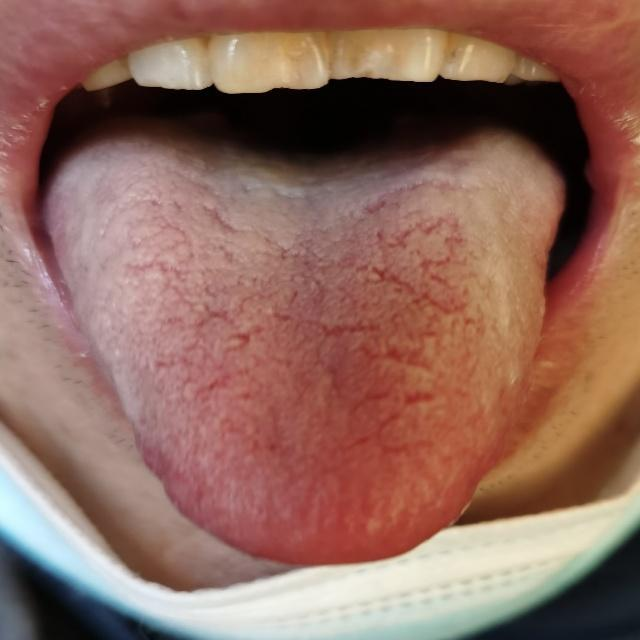baitaishe: (44, 132, 567, 566)
